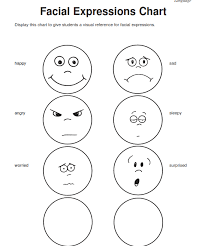triste: (120, 46, 155, 90), (121, 153, 157, 187)
